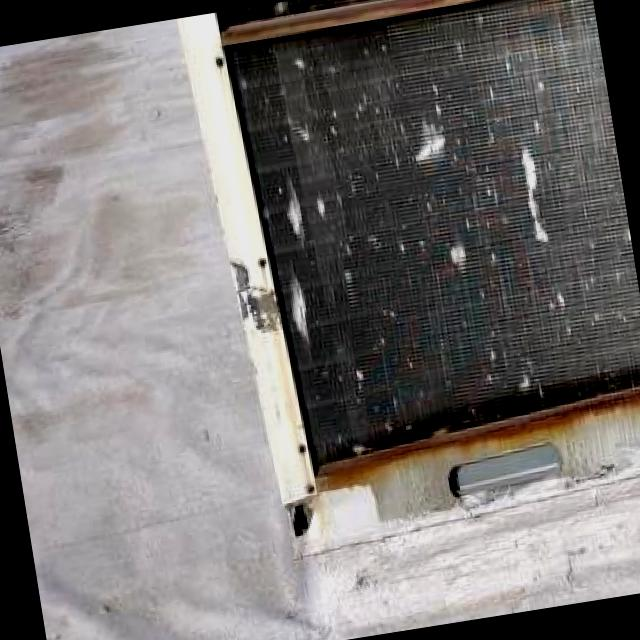SPLIT-SYSTEM: (127, 0, 640, 566)
